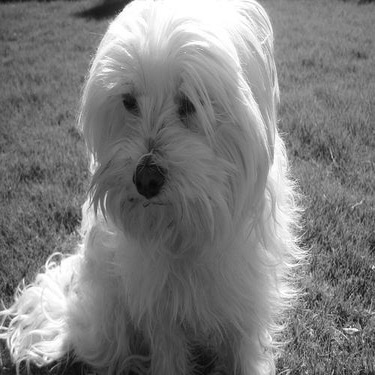dog: (1, 2, 312, 373)
